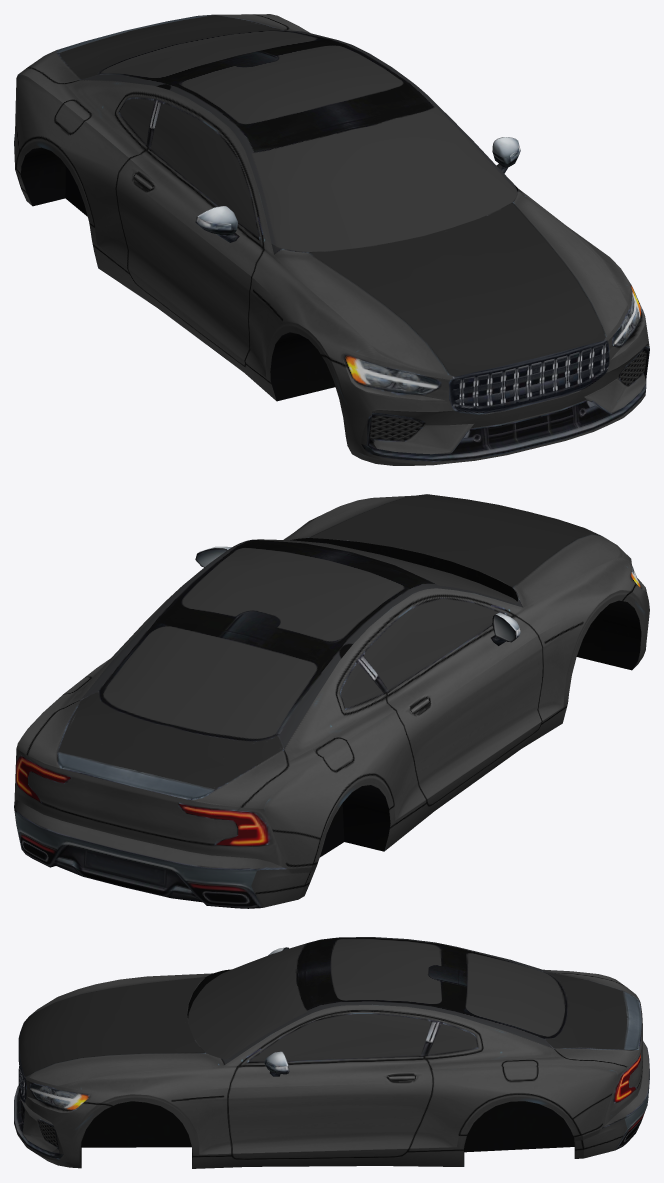
The model's file is car 16 .fbx.
3 renders of one model, top to bottom at view 1: azimuth 30°, elevation 25°; view 2: azimuth 150°, elevation 25°; view 3: azimuth 270°, elevation 25°, orthographic. The views are drawn at different scales.
Parts seen in each view (by area): view 1: car_16; view 2: car_16; view 3: car_16.
Boxes of the visible parts, x1,y1,x2,y2 form: car_16: (14,14,649,465); car_16: (14,494,649,908); car_16: (14,937,649,1168).
Bounding box in the file's own units: 2.02 × 1.18 × 4.55.
